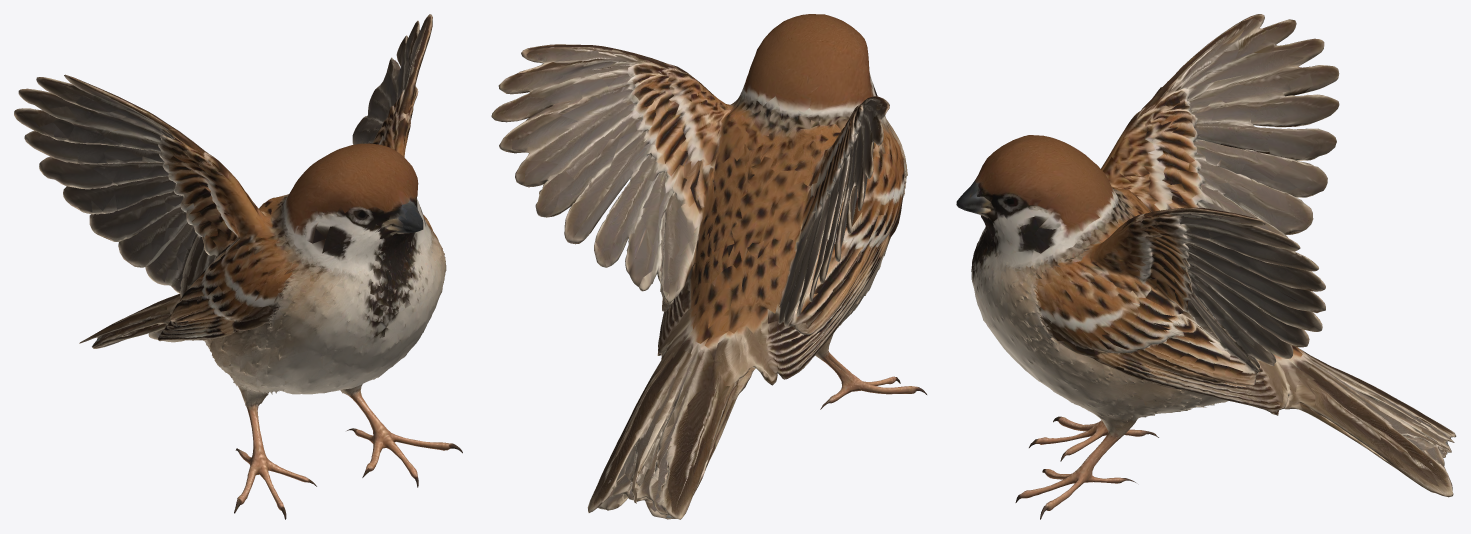
The model's file is sparrow.glb.
3 renders of one model, left to right at view 1: azimuth 30°, elevation 25°; view 2: azimuth 150°, elevation 25°; view 3: azimuth 270°, elevation 25°, orthographic.
Visible parts, largest first — view 1: Sparrow; view 2: Sparrow; view 3: Sparrow.
Boxes of the visible parts, <box> form: Sparrow: <box>14,14,462,519</box>; Sparrow: <box>491,14,926,519</box>; Sparrow: <box>956,14,1456,519</box>.
Size of the model in its own units: 1.66 by 1.58 by 1.86.
1 material, 1 textured.
